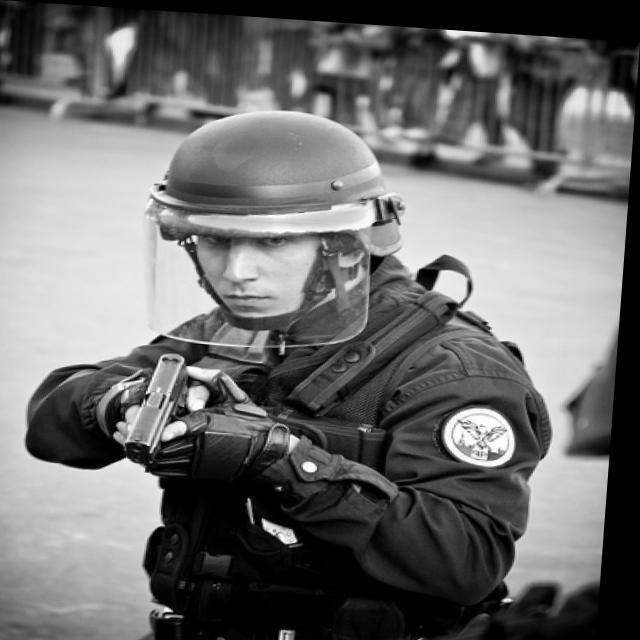handgun: (127, 348, 199, 467)
